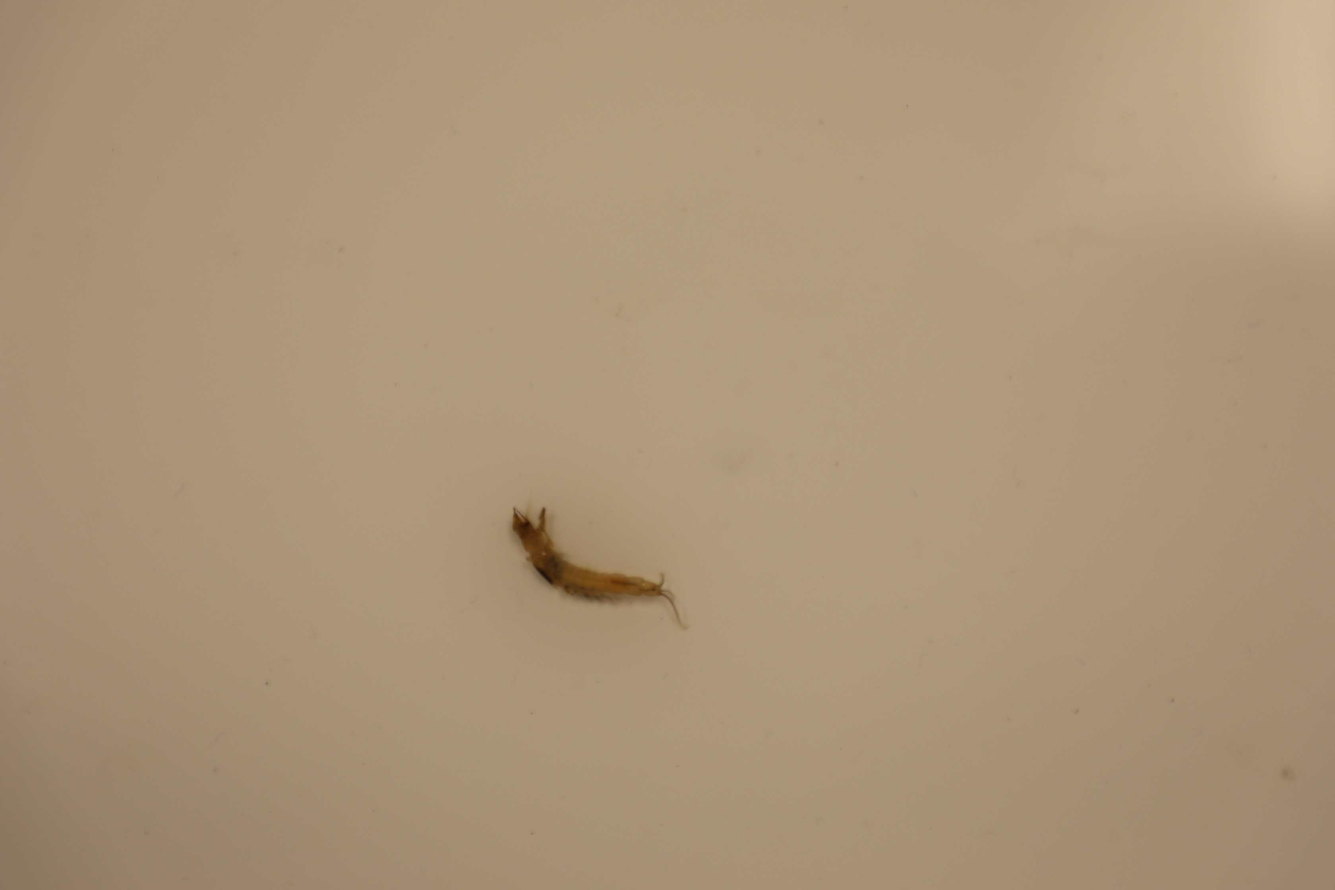Other: (506, 502, 694, 642)
